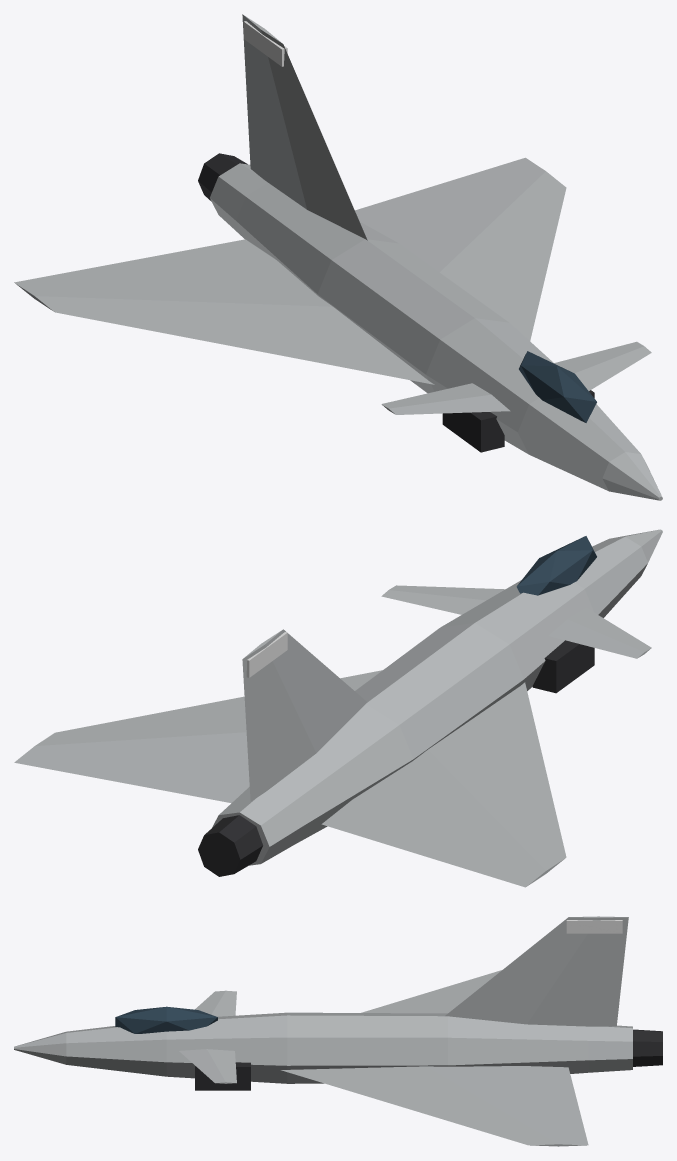
Rendered from fighter_multi.glb.
3 renders of one model, top to bottom at view 1: azimuth 30°, elevation 25°; view 2: azimuth 150°, elevation 25°; view 3: azimuth 270°, elevation 25°, orthographic. The views are drawn at different scales.
Visible parts, largest first — view 1: Body; view 2: Body; view 3: Body.
Boxes of the visible parts, x1=… form: Body: x1=14, y1=14, x2=662, y2=500; Body: x1=14, y1=529, x2=662, y2=887; Body: x1=14, y1=916, x2=662, y2=1146.
Bounding box in the file's own units: 10.8 × 4.5 × 16.15.
